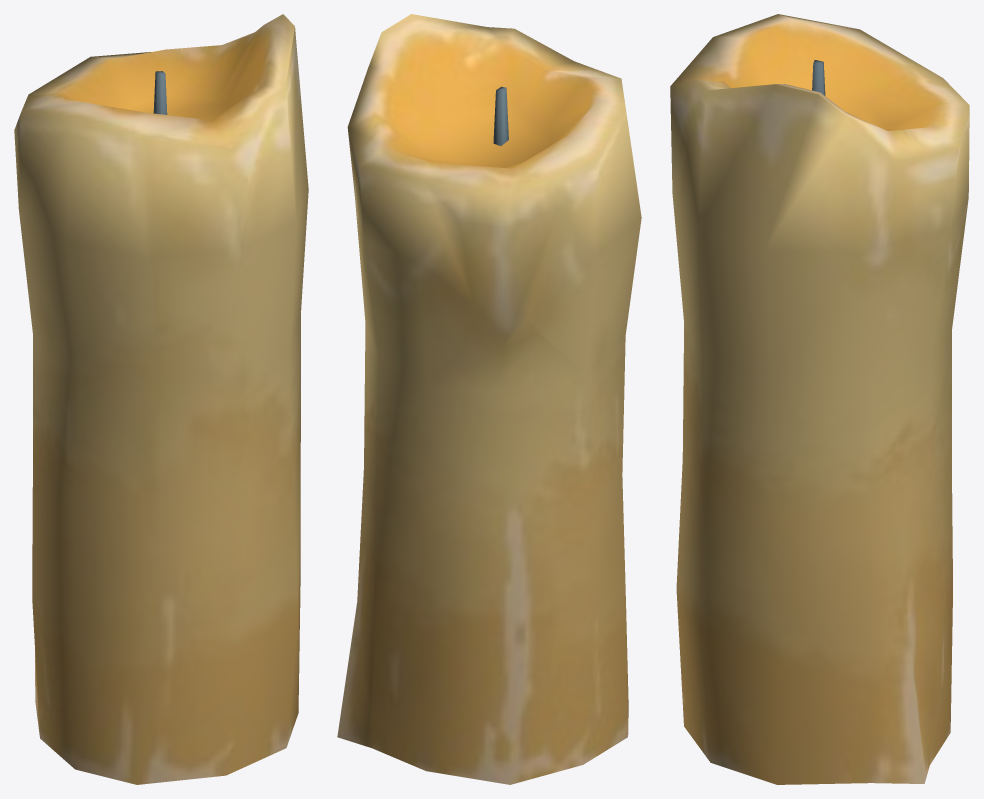
File: Candle_2.gltf
3 renders of one model, left to right at view 1: azimuth 30°, elevation 25°; view 2: azimuth 150°, elevation 25°; view 3: azimuth 270°, elevation 25°, orthographic. The views are drawn at different scales.
Visible parts, largest first — view 1: Candle_2; view 2: Candle_2; view 3: Candle_2.
Part boxes in pixels (left/top/right/bottom): Candle_2: left=14, top=14, right=308, bottom=784; Candle_2: left=337, top=14, right=641, bottom=784; Candle_2: left=670, top=14, right=969, bottom=784.
Size of the model in its own units: 0.0944 by 0.2511 by 0.0975.
1 material, 1 textured.
